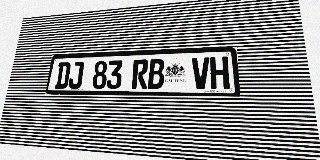3: (106, 60, 123, 89)
8: (92, 61, 108, 89)
B: (148, 59, 165, 89)
D: (55, 62, 71, 89)
H: (210, 56, 230, 89)
J: (68, 61, 84, 89)
R: (132, 59, 149, 89)
V: (192, 57, 210, 89)
